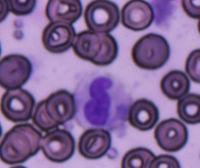N: (72, 72, 132, 131)
